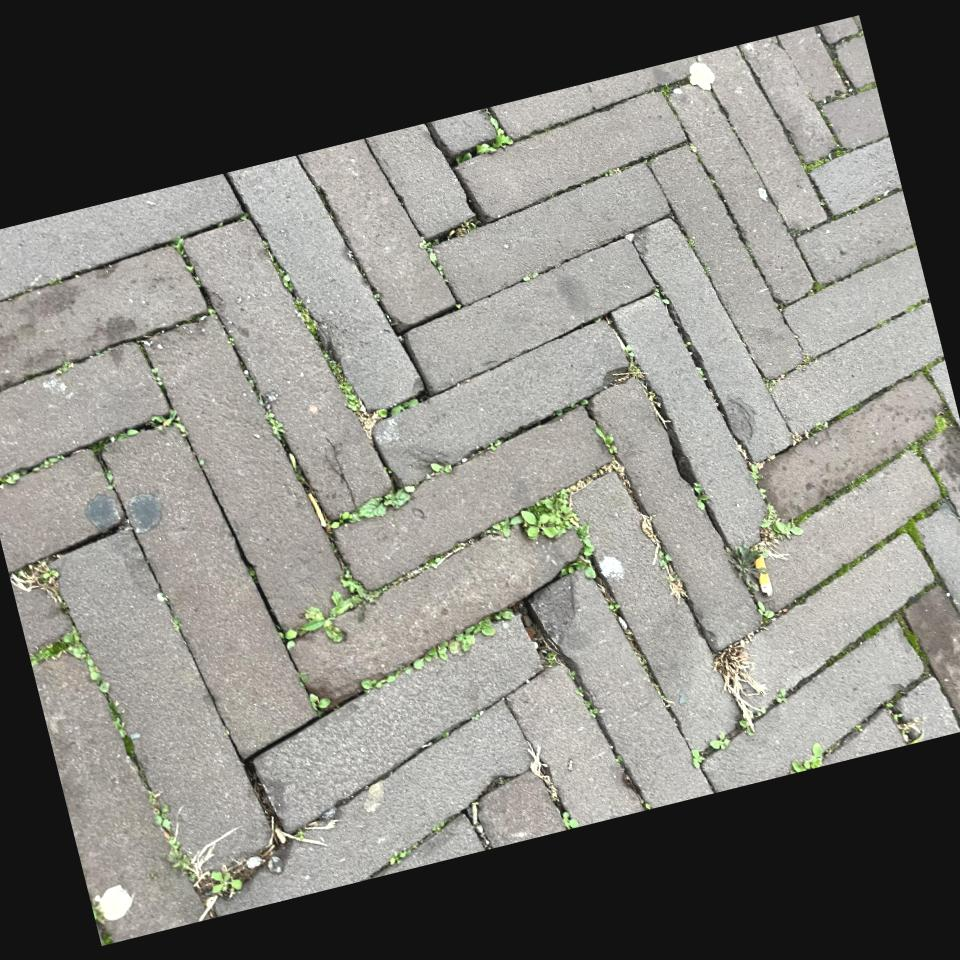weed: (391, 610, 513, 675), (147, 790, 193, 876), (332, 486, 415, 528), (299, 590, 361, 641), (107, 700, 144, 780), (519, 488, 577, 538), (761, 504, 803, 544), (476, 115, 513, 154), (735, 544, 767, 588), (67, 630, 97, 671), (792, 742, 823, 772), (561, 553, 596, 578), (211, 870, 242, 893), (494, 515, 519, 534), (710, 732, 730, 749), (360, 678, 385, 690), (344, 579, 357, 587), (740, 559, 743, 563)
